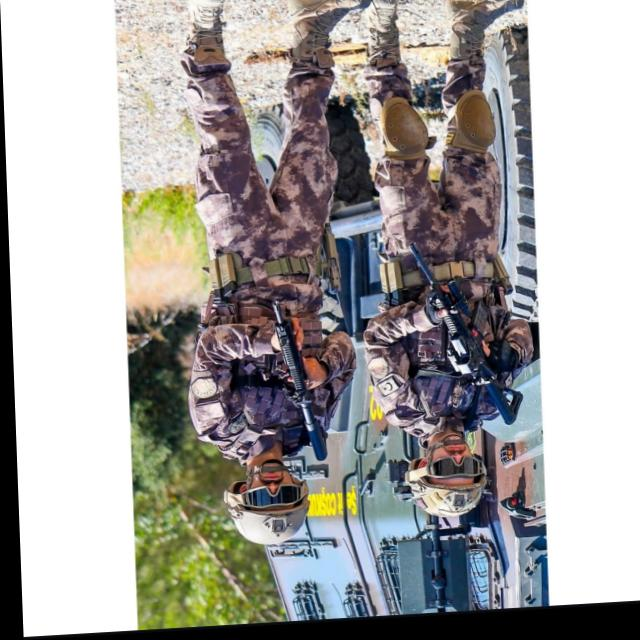poh_personel: (174, 0, 374, 552), (350, 0, 537, 526)
